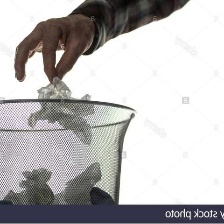tissue: (23, 72, 101, 148), (0, 161, 60, 204), (57, 157, 105, 203)
